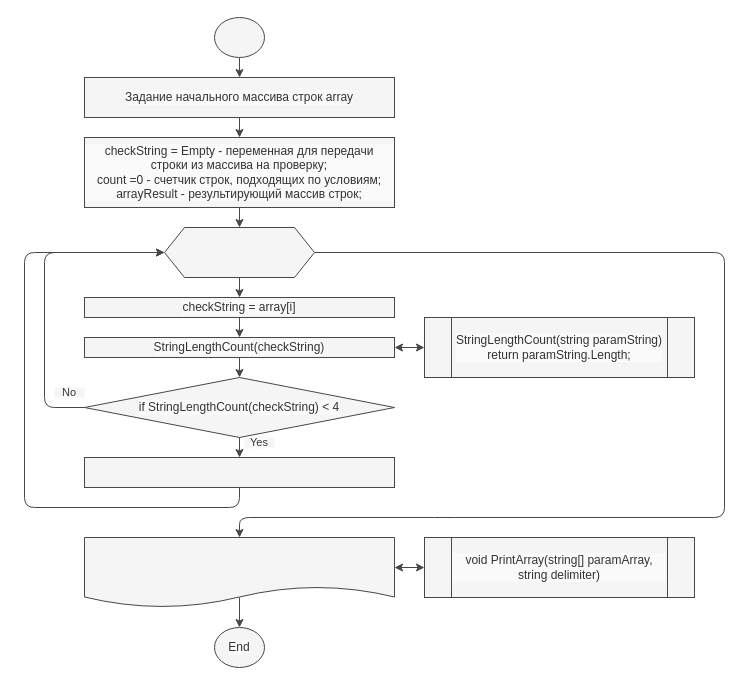
The diagram is 750 pixels wide and 685 high, and some of its shapes have lost their labels. Here are the shapes that lost their labels. From the top down, the centre of each, then its label:
(239,37): Start
(239,252): for i = 0 to array.length i++
(239,472): checkString = array[i]; count++
(239,572): PrintArray(array, ", "); PrintArray(resultArray, ", ");
